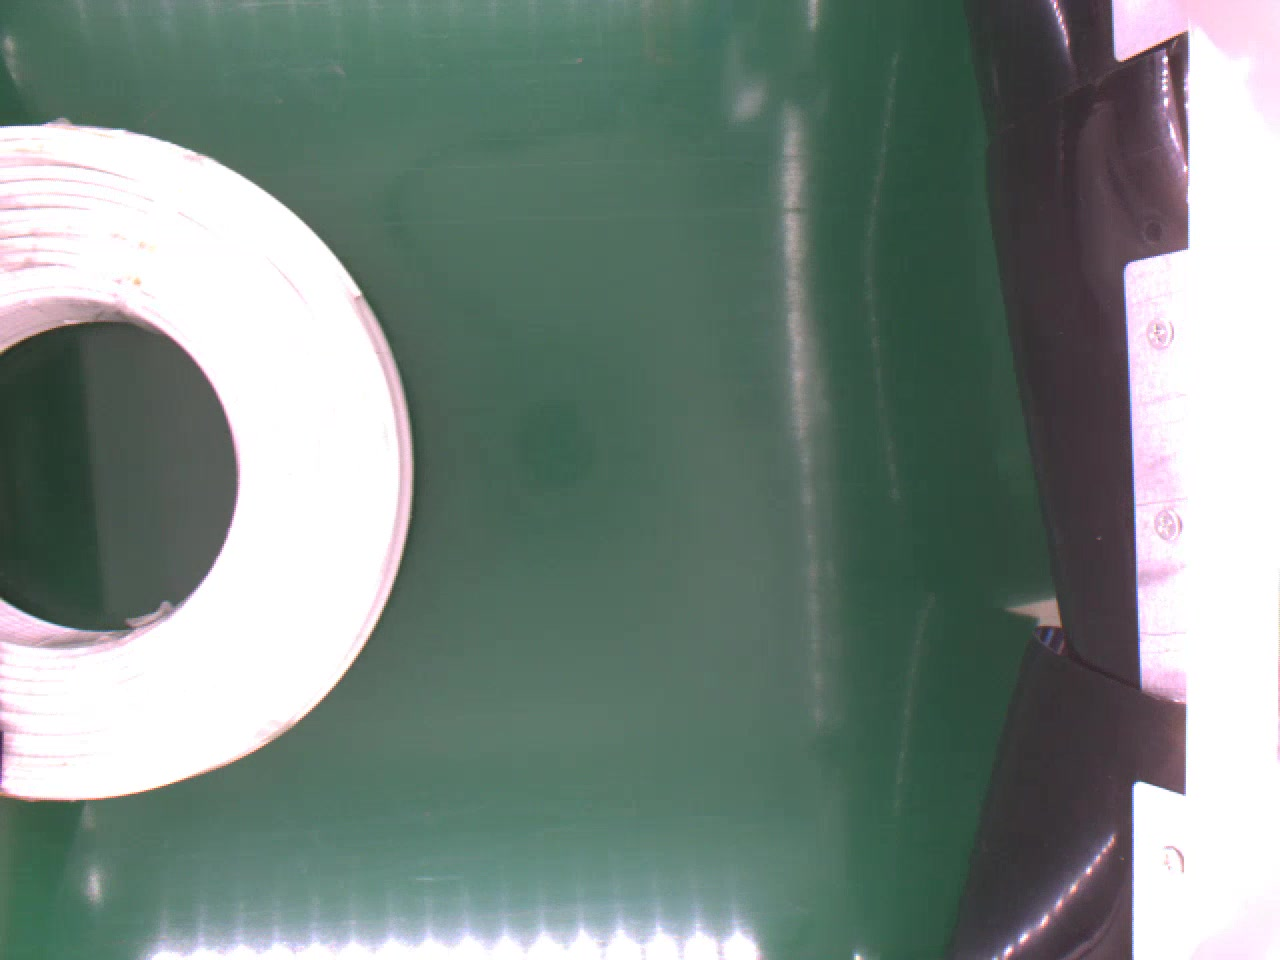white: (0, 116, 419, 804)
